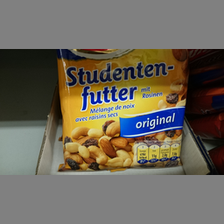nuts: (56, 49, 192, 171)
